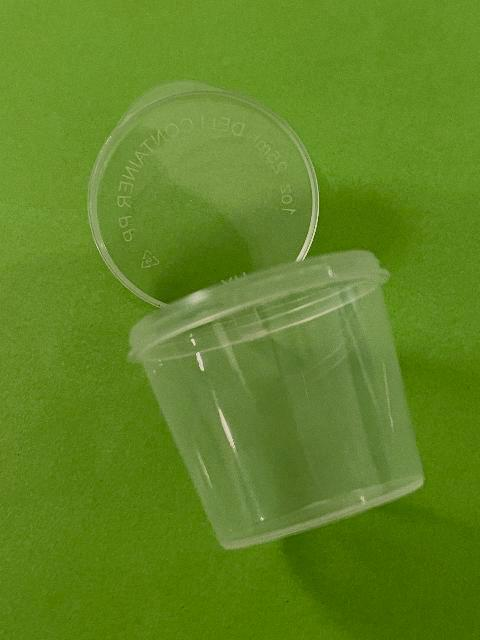plasticcontainer: (84, 73, 428, 554)
